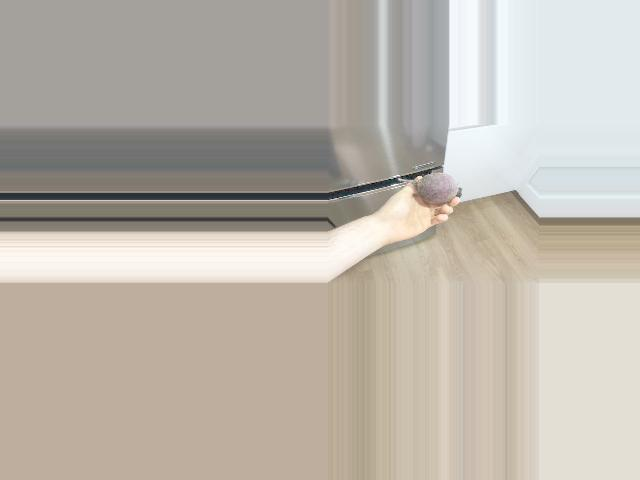beet: (399, 173, 462, 203)
